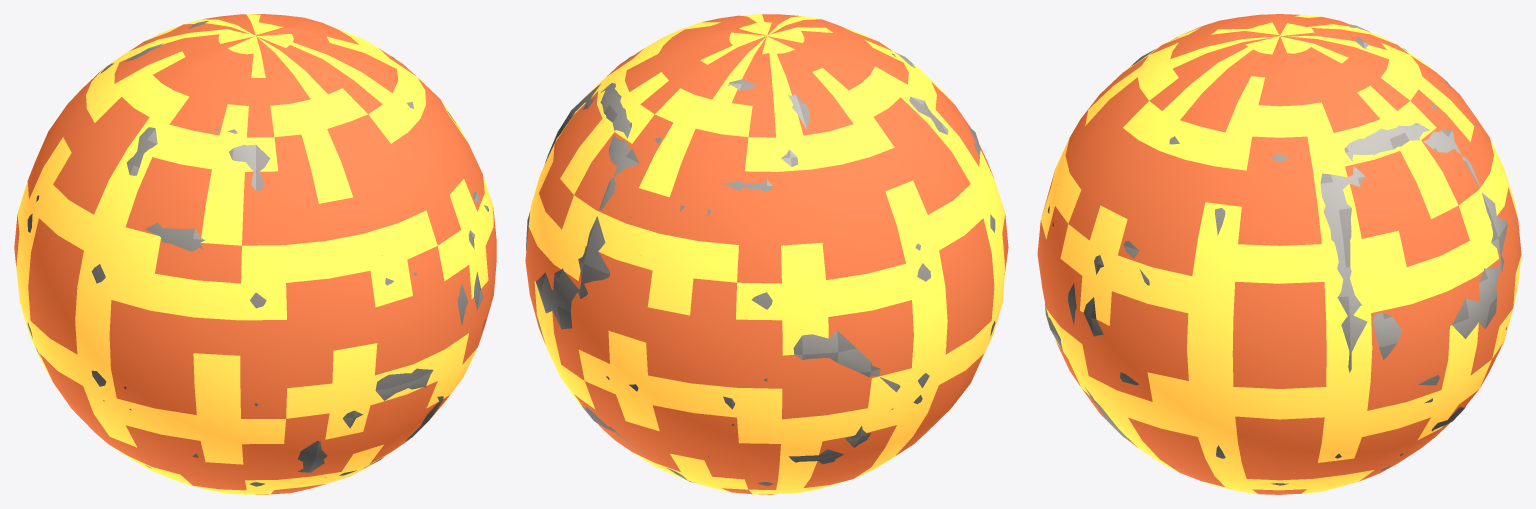
The model's file is planet-mercury.glb.
3 views of the same model, side by side, from view 1: azimuth 30°, elevation 25°; view 2: azimuth 150°, elevation 25°; view 3: azimuth 270°, elevation 25° (orthographic).
Visible parts, largest first — view 1: Magma_Crust, Mercury_Globe; view 2: Magma_Crust, Mercury_Globe; view 3: Magma_Crust, Mercury_Globe.
Boxes of the visible parts, x1,y1,x2,y2 form: Magma_Crust: [14, 14, 496, 494]; Mercury_Globe: [27, 21, 488, 486]; Magma_Crust: [525, 14, 1008, 494]; Mercury_Globe: [526, 52, 995, 486]; Magma_Crust: [1037, 14, 1521, 494]; Mercury_Globe: [1045, 24, 1507, 485].
Bounding box in the file's own units: 2.02 × 2.03 × 2.03.
